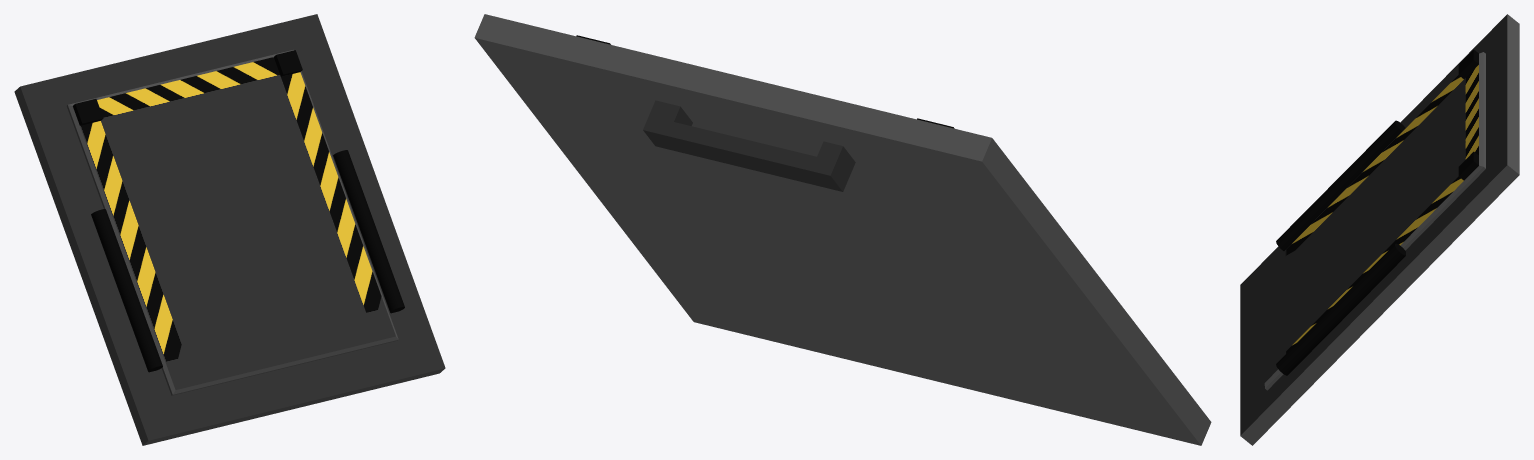
The model's file is BasementCoverAnimated.fbx.
The picture shows the model from 3 angles, left to right: view 1: azimuth 30°, elevation 25°; view 2: azimuth 150°, elevation 25°; view 3: azimuth 270°, elevation 25°; orthographic projection. The views are drawn at different scales.
Parts seen in each view (by area): view 1: Lid:pCylinder3; view 2: Lid:pCylinder3; view 3: Lid:pCylinder3.
Part boxes in pixels (<box>): Lid:pCylinder3: <box>14,14,445,445</box>; Lid:pCylinder3: <box>474,14,1211,445</box>; Lid:pCylinder3: <box>1240,14,1519,445</box>.
Size of the model in its own units: 5.37 by 4.67 by 4.21.
